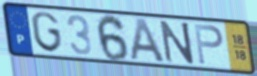3: (66, 13, 93, 56)
6: (95, 12, 131, 63)
A: (128, 17, 167, 64)
G: (30, 10, 65, 55)
N: (159, 19, 197, 65)
P: (192, 22, 225, 66)
